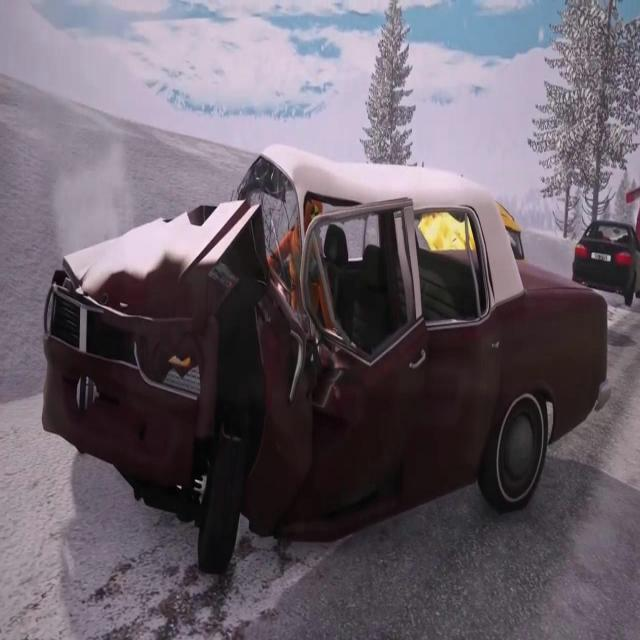severe: (35, 140, 612, 584)
